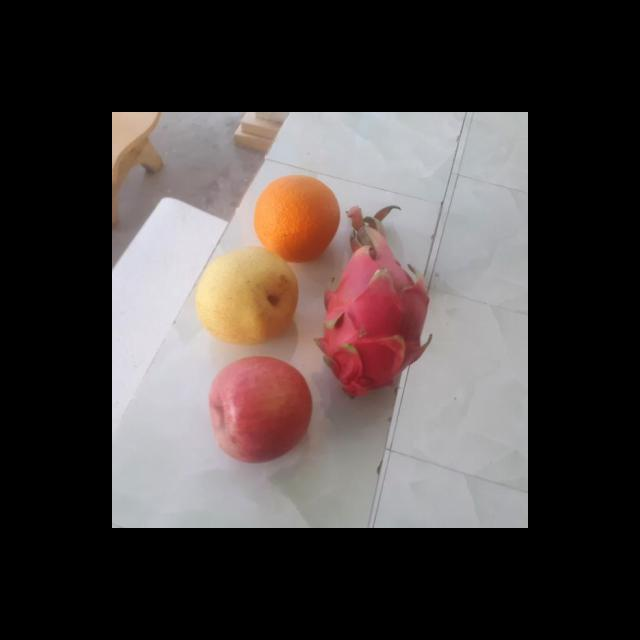apple: (204, 353, 314, 462)
orange: (250, 175, 340, 262)
pear: (190, 248, 300, 346)
pitaya: (310, 242, 432, 401)
